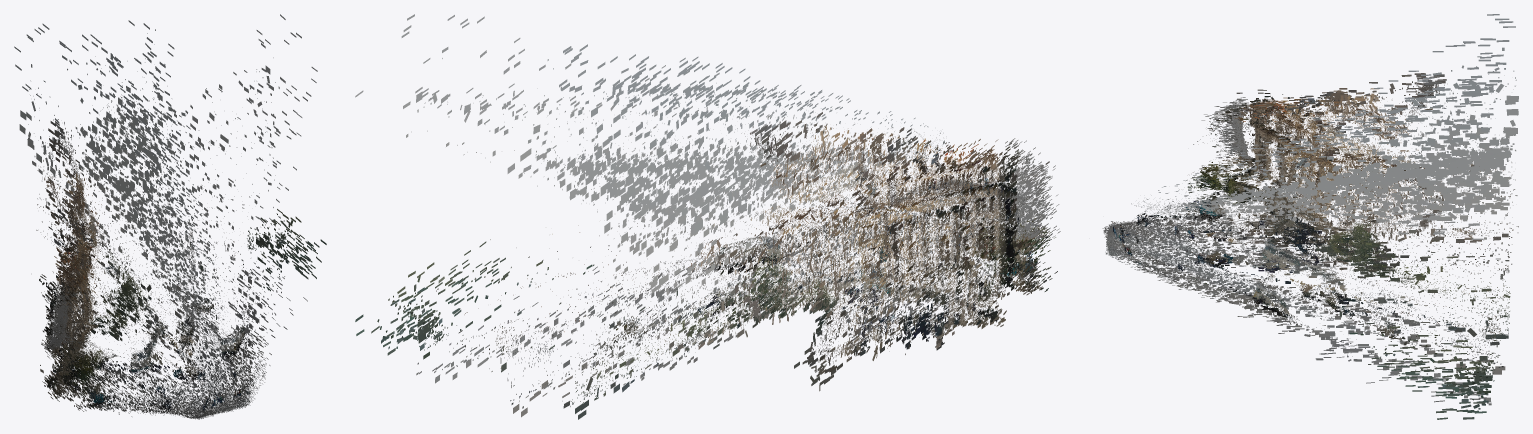
The model's file is streetgeo-v1.glb.
3 views of the same model, side by side, from view 1: azimuth 30°, elevation 25°; view 2: azimuth 150°, elevation 25°; view 3: azimuth 270°, elevation 25° (orthographic). The views are drawn at different scales.
Parts seen in each view (by area): view 1: street_3dgs3to; view 2: street_3dgs3to; view 3: street_3dgs3to.
Part boxes in pixels (box(x1,y1,x2,y2)): street_3dgs3to: box(14, 14, 326, 419); street_3dgs3to: box(355, 14, 1060, 419); street_3dgs3to: box(1102, 14, 1518, 419).
Bounding box in the file's own units: 63.73 × 44.93 × 60.15.
